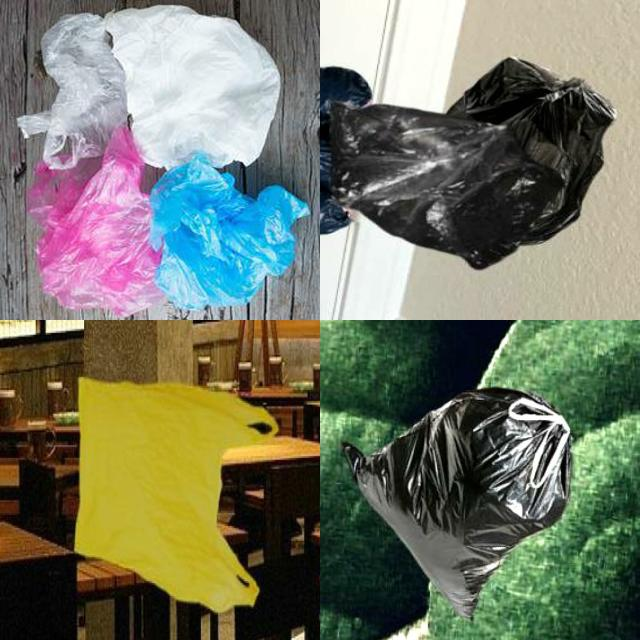Single-layer Plastic: (330, 58, 615, 268), (342, 388, 572, 618), (75, 378, 275, 612), (105, 5, 280, 169), (30, 126, 164, 316), (150, 155, 309, 309), (18, 14, 128, 169)
